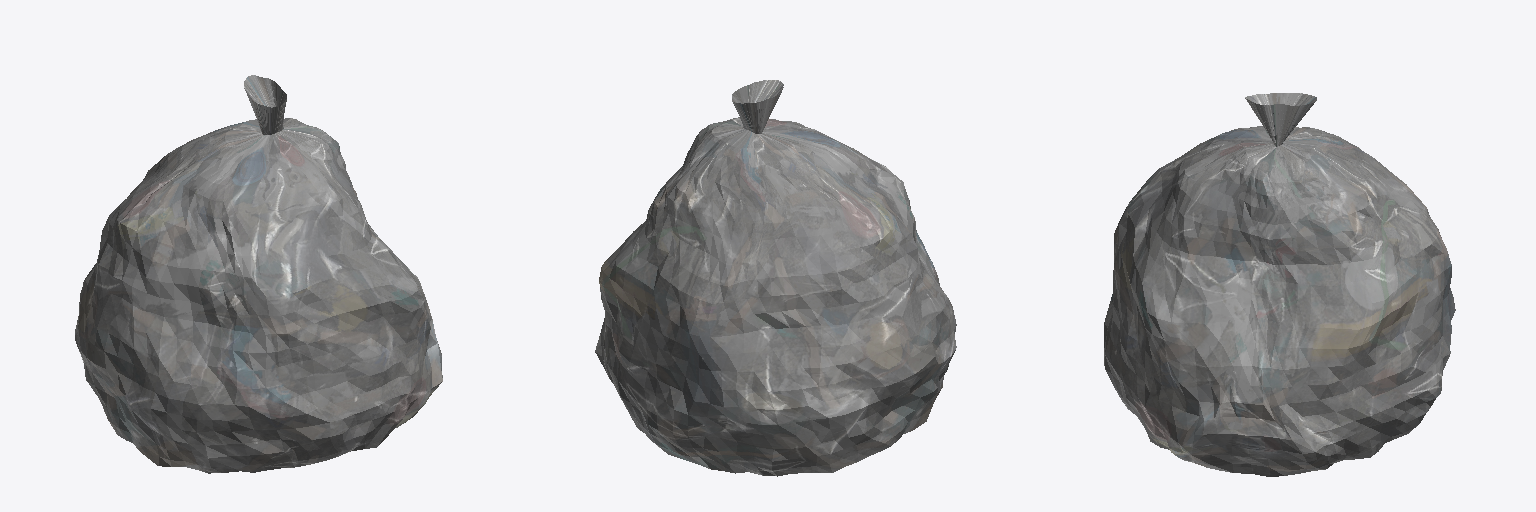
3 views of the same model, side by side, from view 1: azimuth 30°, elevation 25°; view 2: azimuth 150°, elevation 25°; view 3: azimuth 270°, elevation 25° (orthographic).
Parts seen in each view (by area): view 1: binbag2; view 2: binbag2; view 3: binbag2.
Boxes of the visible parts, box(x1,y1,x2,y2) form: binbag2: box(75, 75, 442, 473); binbag2: box(595, 80, 956, 476); binbag2: box(1104, 93, 1455, 476).
Size of the model in its own units: 28.88 by 28.36 by 27.6.
Materials: 1 (1 with a texture image).